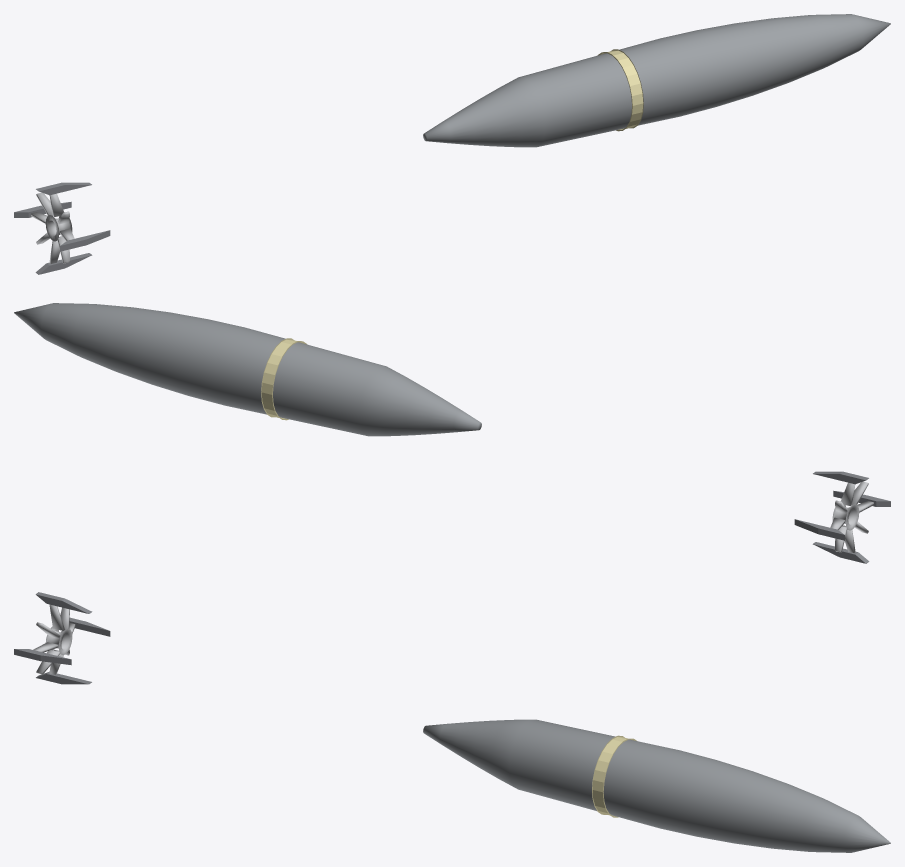
The model's file is UK_TORP_Mk8_LOD1.fbx.
3 views of the same model, one above another, from view 1: azimuth 30°, elevation 25°; view 2: azimuth 150°, elevation 25°; view 3: azimuth 330°, elevation 25° (orthographic).
Visible parts, largest first — view 1: WPN_UK_TORP_Mk8_LOD1_Body, WPN_UK_TORP_Mk8_LOD1_Propulsor, WPN_UK_TORP_Mk8_LOD1_Fins, WPN_UK_TORP_Mk8_LOD1_Marking; view 2: WPN_UK_TORP_Mk8_LOD1_Body, WPN_UK_TORP_Mk8_LOD1_Propulsor, WPN_UK_TORP_Mk8_LOD1_Fins, WPN_UK_TORP_Mk8_LOD1_Marking; view 3: WPN_UK_TORP_Mk8_LOD1_Body, WPN_UK_TORP_Mk8_LOD1_Fins, WPN_UK_TORP_Mk8_LOD1_Propulsor, WPN_UK_TORP_Mk8_LOD1_Marking.
Part boxes in pixels (bbox=[...]): WPN_UK_TORP_Mk8_LOD1_Body: bbox=[423, 14, 890, 147]; WPN_UK_TORP_Mk8_LOD1_Propulsor: bbox=[31, 192, 74, 263]; WPN_UK_TORP_Mk8_LOD1_Fins: bbox=[14, 182, 110, 274]; WPN_UK_TORP_Mk8_LOD1_Marking: bbox=[597, 49, 643, 131]; WPN_UK_TORP_Mk8_LOD1_Body: bbox=[14, 303, 481, 436]; WPN_UK_TORP_Mk8_LOD1_Propulsor: bbox=[830, 481, 873, 552]; WPN_UK_TORP_Mk8_LOD1_Fins: bbox=[794, 471, 890, 563]; WPN_UK_TORP_Mk8_LOD1_Marking: bbox=[261, 338, 307, 420]; WPN_UK_TORP_Mk8_LOD1_Body: bbox=[423, 719, 890, 852]; WPN_UK_TORP_Mk8_LOD1_Fins: bbox=[14, 592, 110, 684]; WPN_UK_TORP_Mk8_LOD1_Propulsor: bbox=[33, 604, 75, 674]; WPN_UK_TORP_Mk8_LOD1_Marking: bbox=[592, 735, 637, 817].
Bounding box in the file's own units: 6.51 × 0.6082 × 0.6082.
